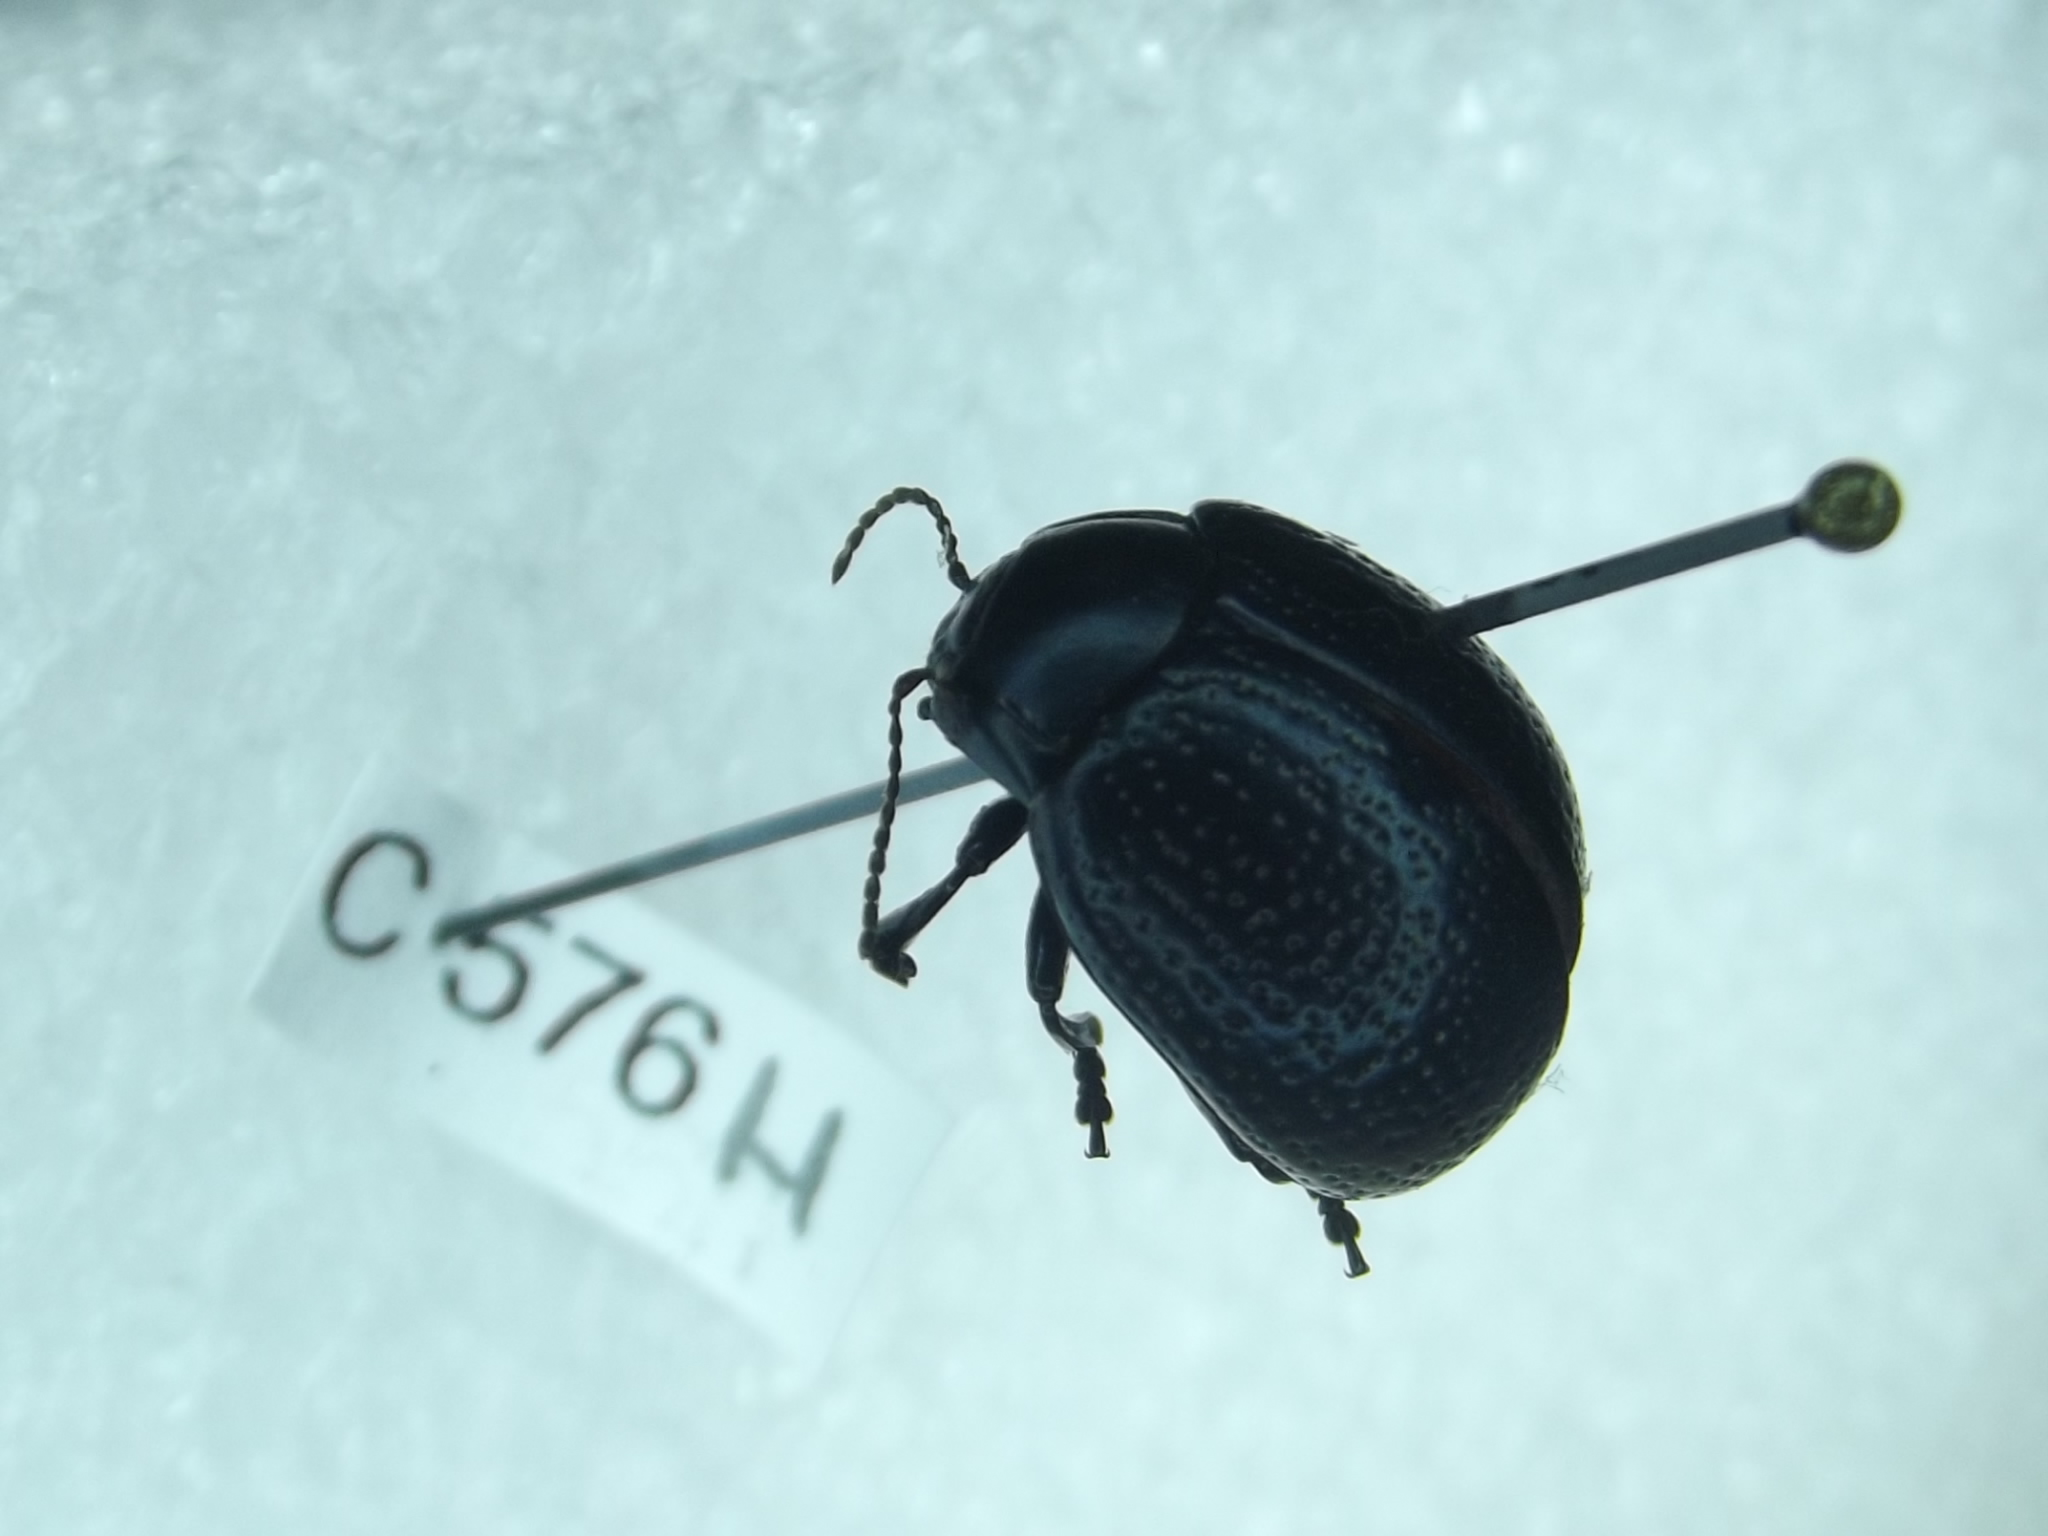Chrysolina_oricalcia: (818, 478, 1600, 1283)
